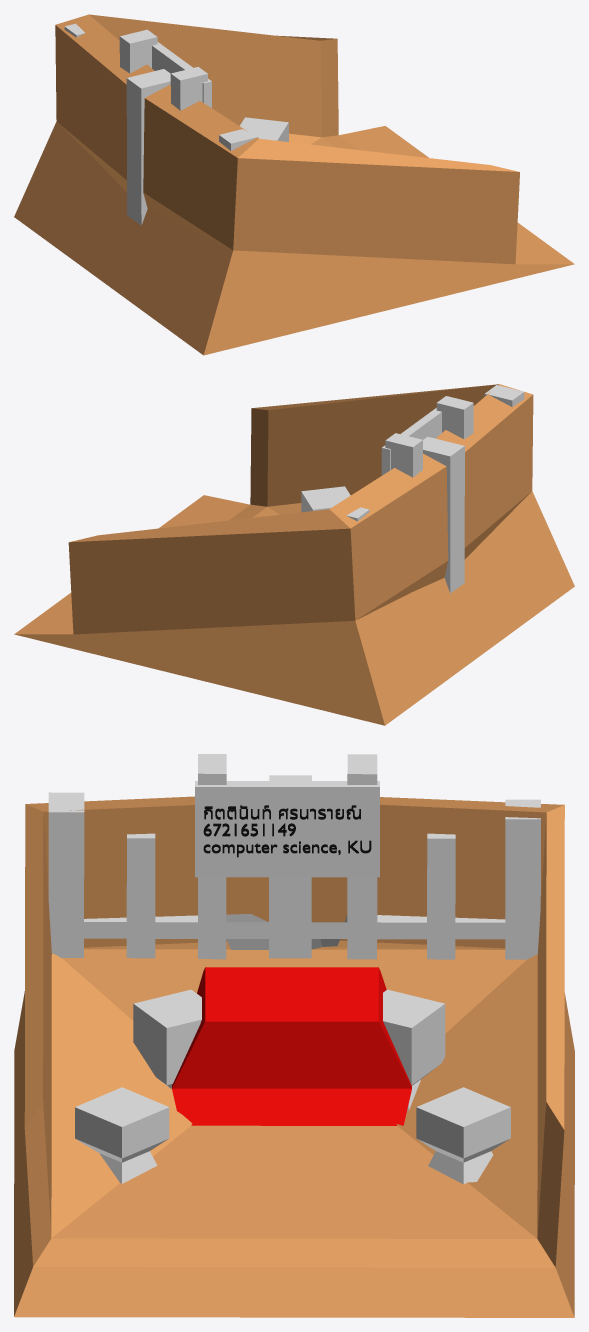
The picture shows the model from 3 angles, top to bottom: view 1: azimuth 30°, elevation 25°; view 2: azimuth 150°, elevation 25°; view 3: azimuth 270°, elevation 25°; orthographic projection. The views are drawn at different scales.
Visible parts, largest first — view 1: Cube, Cube.003, Cube.004, Cube.006; view 2: Cube, Cube.003, Cube.004, Cube.005; view 3: Cube, Cube.003, Cube.001, Cube.004, Cube.006, Cube.005, Cube.008, Cube.007, Text.
Part boxes in pixels (x1=…): Cube: x1=14, y1=14, x2=574, y2=355; Cube.003: x1=64, y1=23, x2=258, y2=225; Cube.004: x1=152, y1=42, x2=211, y2=107; Cube.006: x1=240, y1=117, x2=288, y2=141; Cube: x1=14, y1=384, x2=574, y2=725; Cube.003: x1=346, y1=385, x2=524, y2=593; Cube.004: x1=381, y1=408, x2=441, y2=475; Cube.005: x1=301, y1=486, x2=350, y2=512; Cube: x1=14, y1=796, x2=574, y2=1317; Cube.003: x1=48, y1=754, x2=540, y2=959; Cube.001: x1=172, y1=967, x2=411, y2=1125; Cube.004: x1=195, y1=781, x2=379, y2=877; Cube.006: x1=416, y1=1087, x2=510, y2=1184; Cube.005: x1=75, y1=1087, x2=169, y2=1183; Cube.008: x1=133, y1=989, x2=201, y2=1088; Cube.007: x1=383, y1=989, x2=445, y2=1110; Text: x1=203, y1=805, x2=371, y2=857.
Size of what is drawn, in the model's own units: 51.71 by 29.32 by 45.79.
